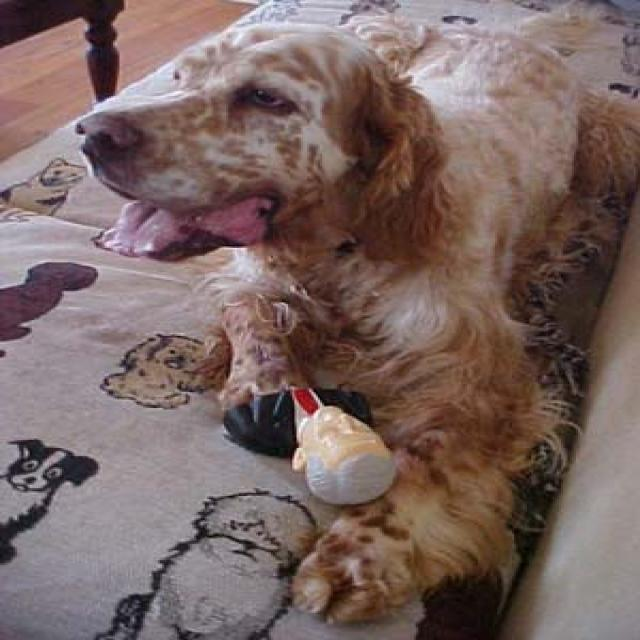dog-english_setter: (49, 2, 636, 634)
